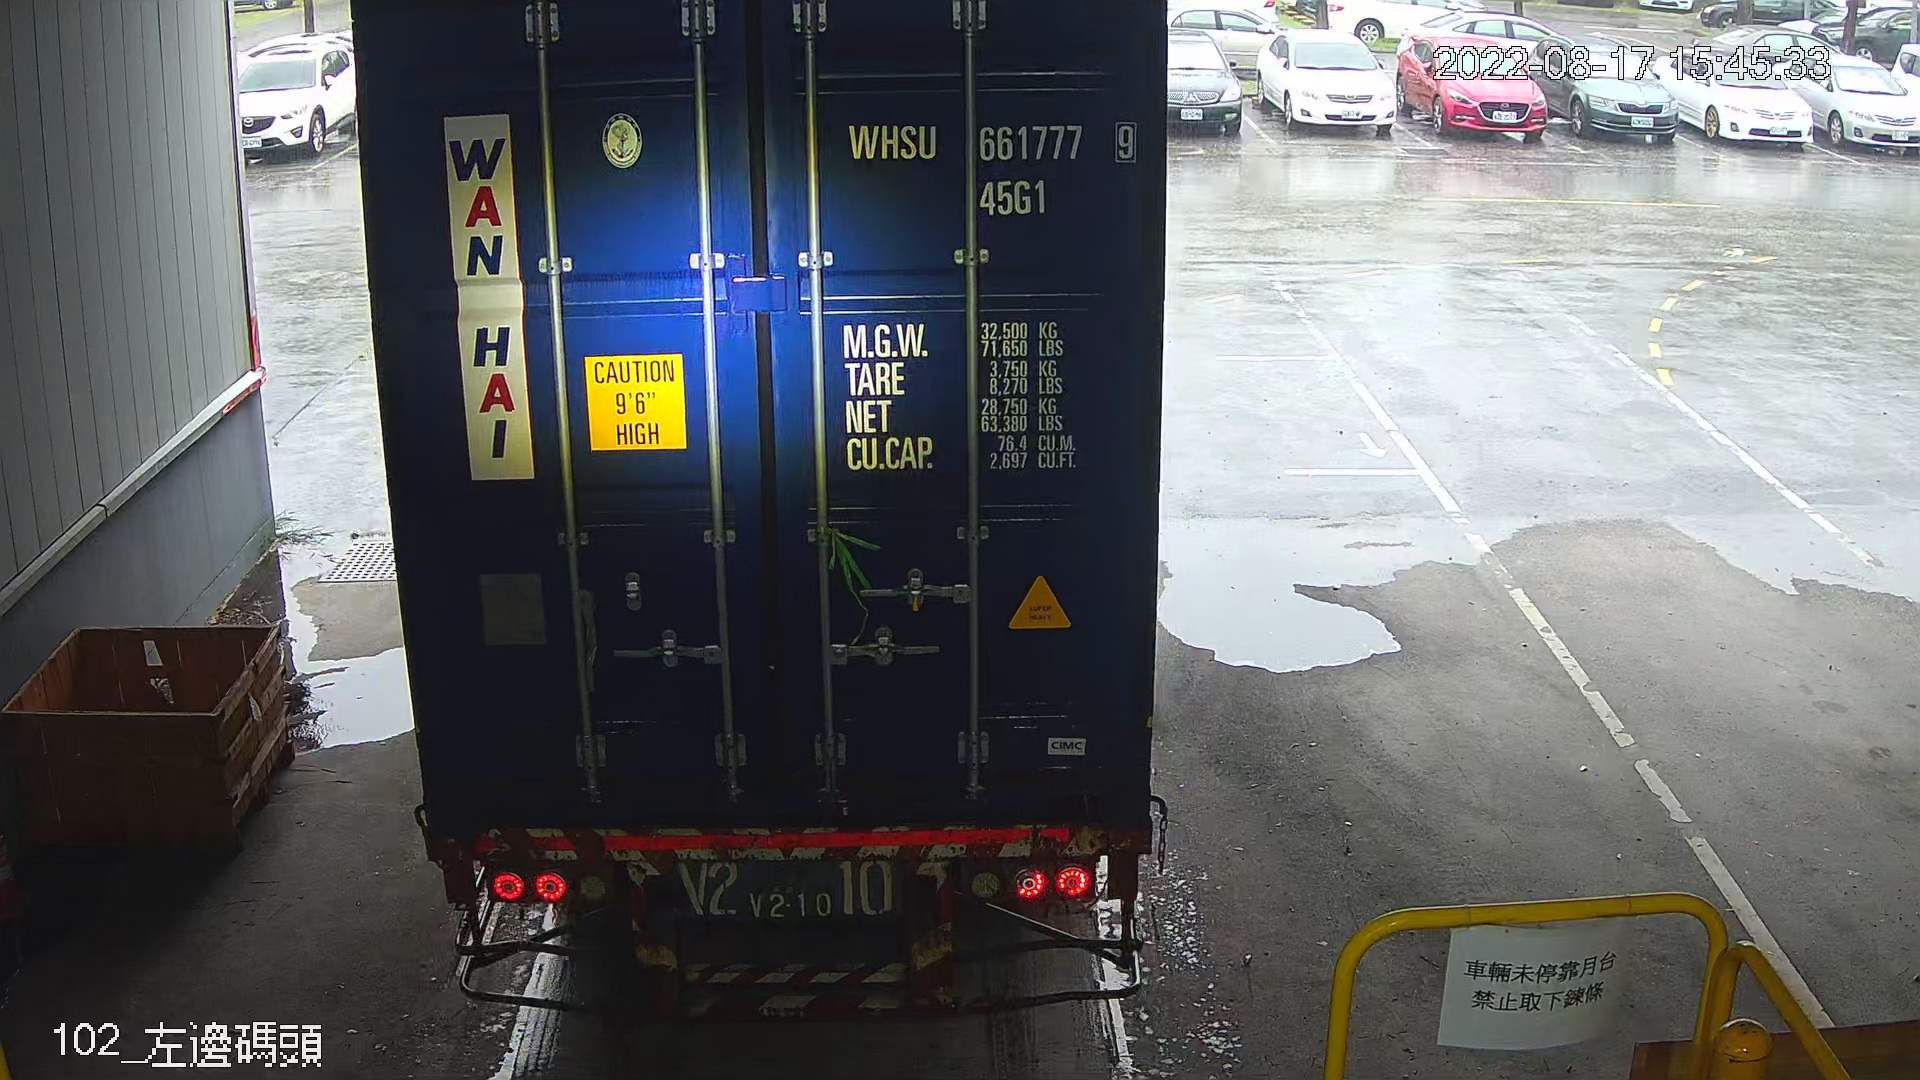container: (833, 108, 1149, 223)
